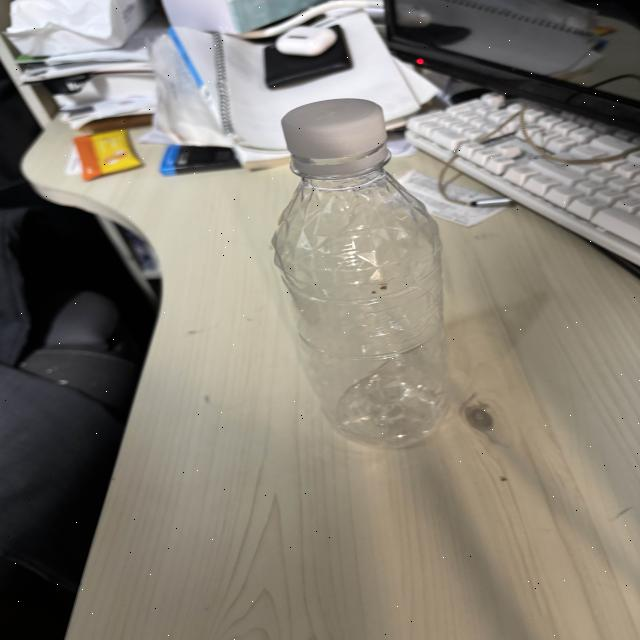Plastic: (255, 82, 468, 460)
